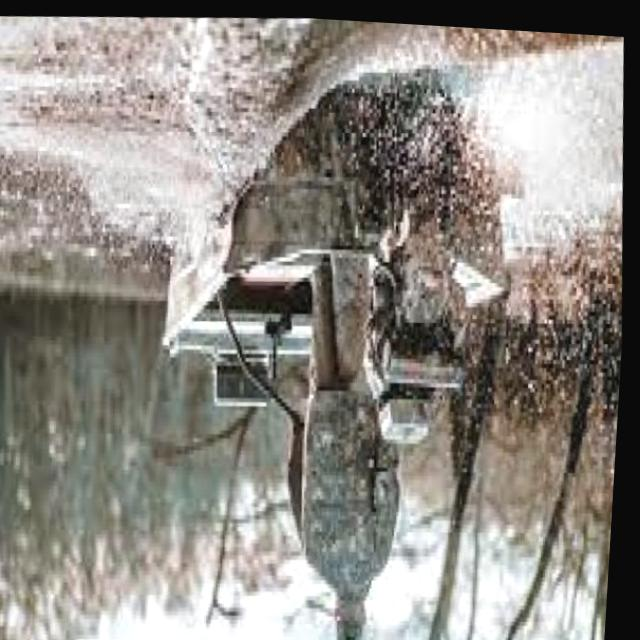ship2: (170, 65, 512, 640)
